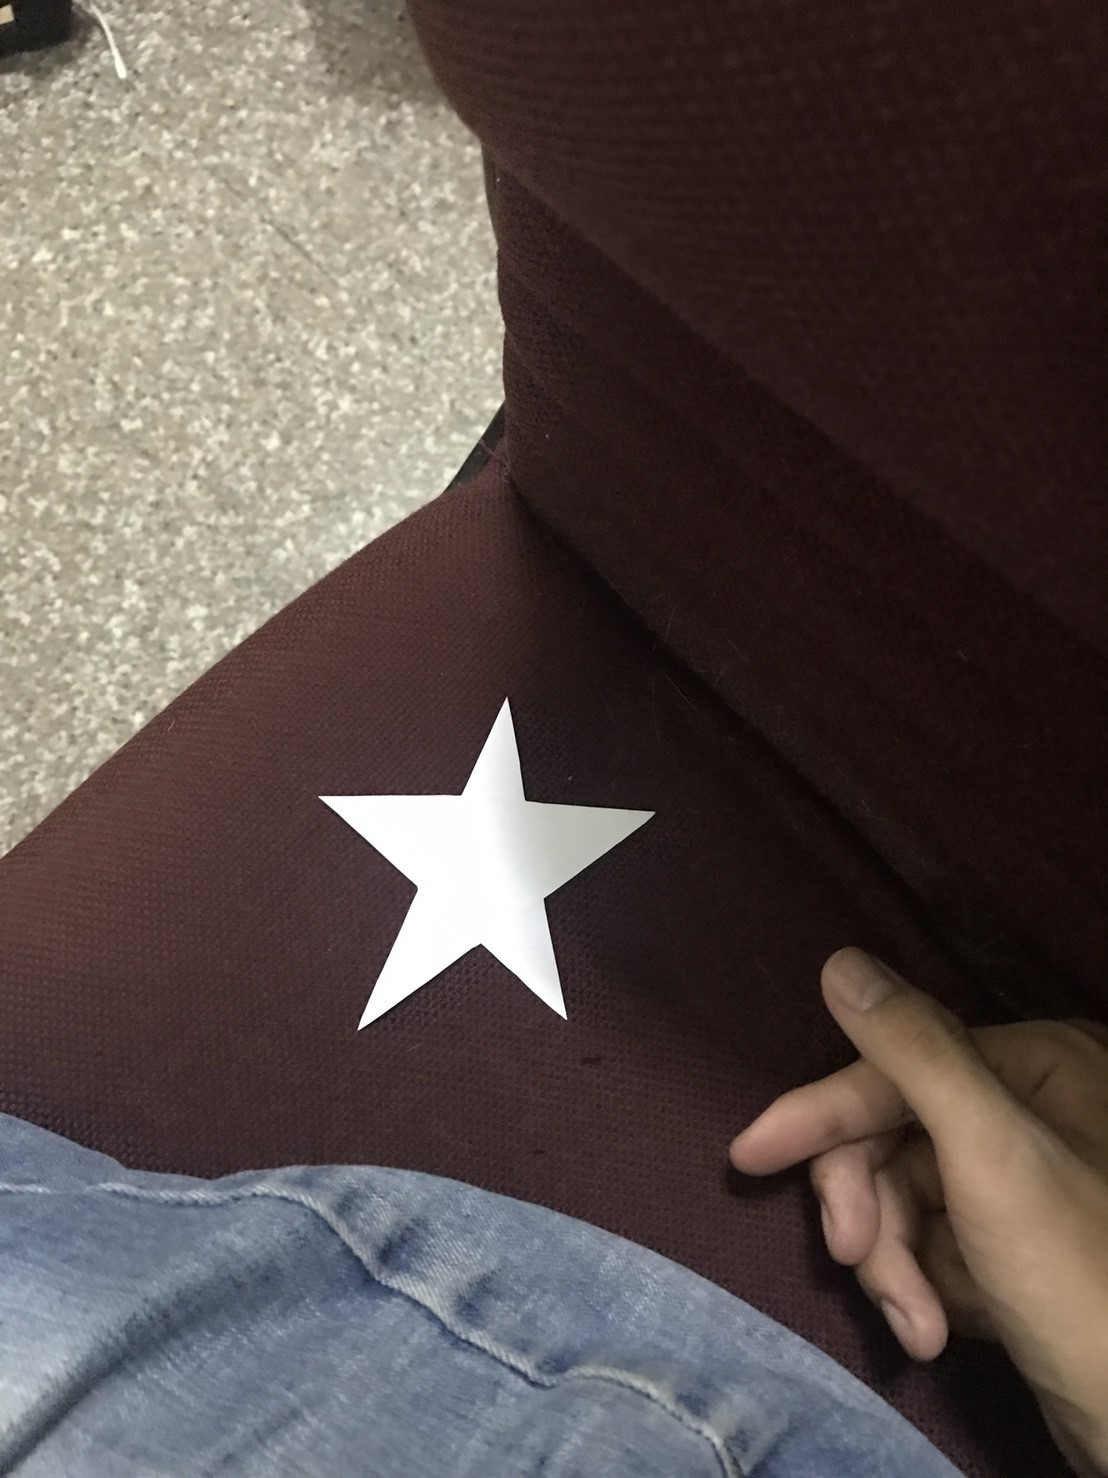star: (244, 687, 694, 1047)
